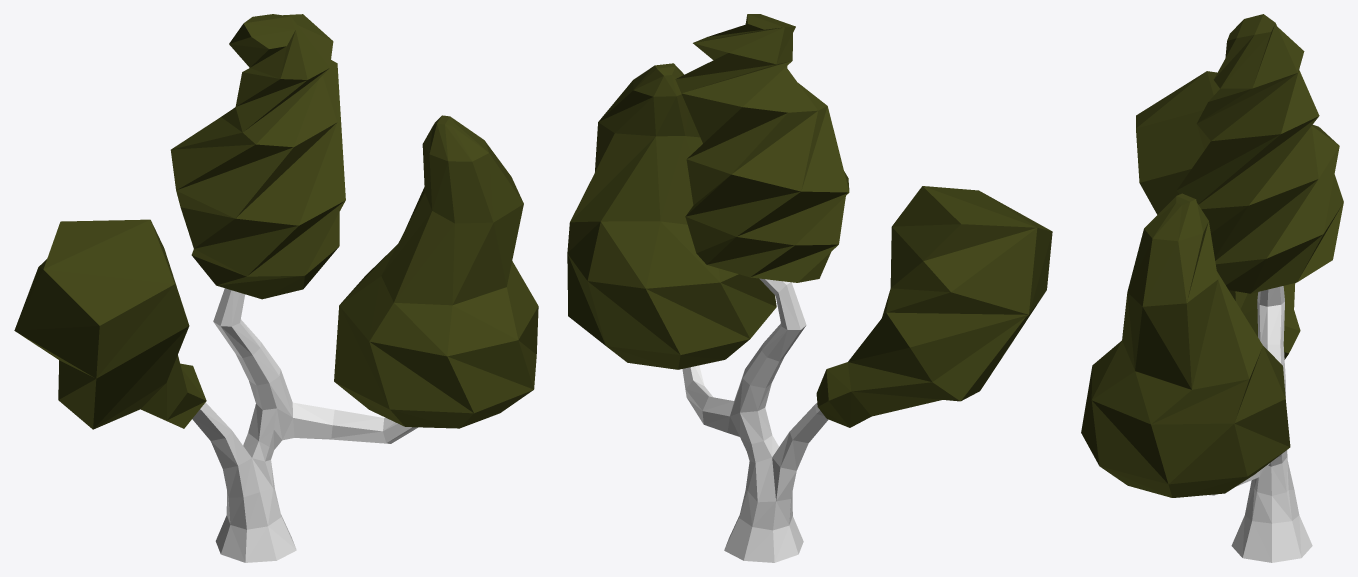
The model's file is tree_solid_03a.fbx.
3 renders of one model, left to right at view 1: azimuth 30°, elevation 25°; view 2: azimuth 150°, elevation 25°; view 3: azimuth 270°, elevation 25°, orthographic.
Visible parts, largest first — view 1: tree_solid_03; view 2: tree_solid_03; view 3: tree_solid_03.
Part boxes in pixels (x1,y1,x2,y2): tree_solid_03: (14, 14, 538, 562); tree_solid_03: (567, 14, 1052, 562); tree_solid_03: (1081, 14, 1343, 562).
Bounding box in the file's own units: 11.49 × 12.01 × 5.46.
